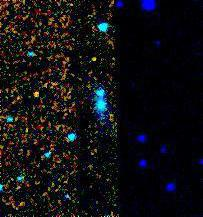star: (23, 81, 53, 111)
